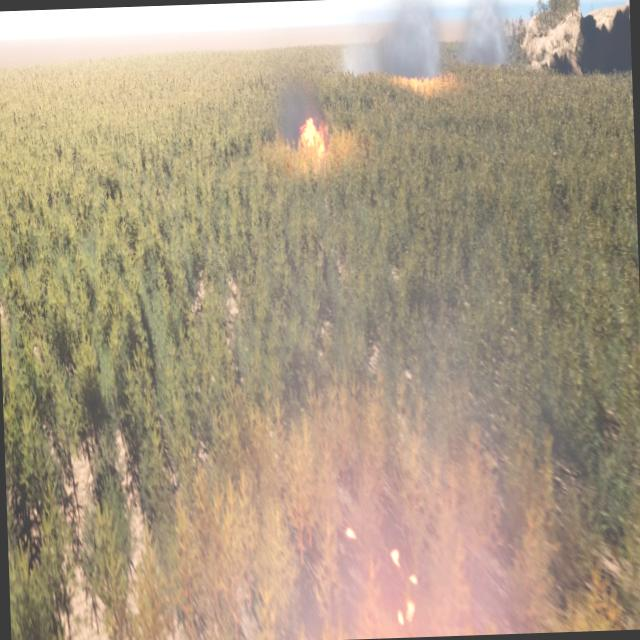fire: (391, 65, 455, 95), (298, 110, 330, 153)
smoke: (196, 373, 553, 640), (336, 0, 440, 79), (460, 0, 512, 64), (272, 74, 320, 138)
